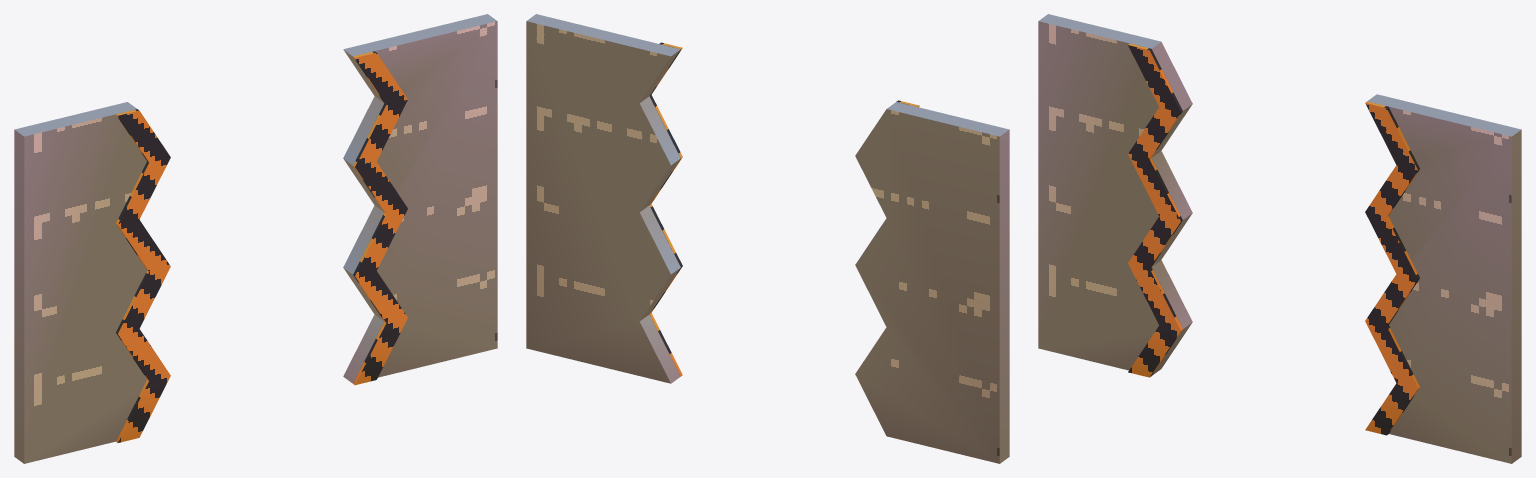
The model's file is stn.airlock__open.glb.
The picture shows the model from 3 angles, left to right: view 1: azimuth 30°, elevation 25°; view 2: azimuth 150°, elevation 25°; view 3: azimuth 330°, elevation 25°; orthographic projection.
Visible parts, largest first — view 1: kit_leaf_l, kit_leaf_r, kit_seal_l, kit_seal_r; view 2: kit_leaf_r, kit_leaf_l, kit_seal_r; view 3: kit_leaf_r, kit_leaf_l, kit_seal_l, kit_seal_r.
Boxes of the visible parts, left/top/right/bottom form: kit_leaf_l: left=14, top=102, right=146, bottom=463; kit_leaf_r: left=343, top=14, right=497, bottom=383; kit_seal_l: left=116, top=109, right=170, bottom=442; kit_seal_r: left=353, top=51, right=407, bottom=385; kit_leaf_r: left=526, top=14, right=680, bottom=383; kit_leaf_l: left=855, top=102, right=1009, bottom=463; kit_seal_r: left=649, top=42, right=682, bottom=376; kit_leaf_r: left=1367, top=94, right=1521, bottom=463; kit_leaf_l: left=1038, top=14, right=1192, bottom=375; kit_seal_l: left=1128, top=43, right=1182, bottom=377; kit_seal_r: left=1365, top=101, right=1419, bottom=435.
Bounding box in the file's own units: 3.92 × 2.59 × 0.17.
2 materials, 2 textured.
